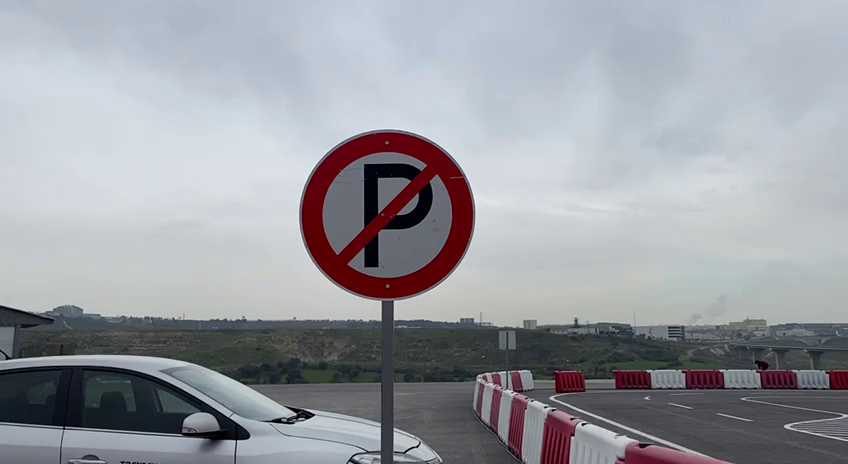noparking: (291, 121, 483, 303)
